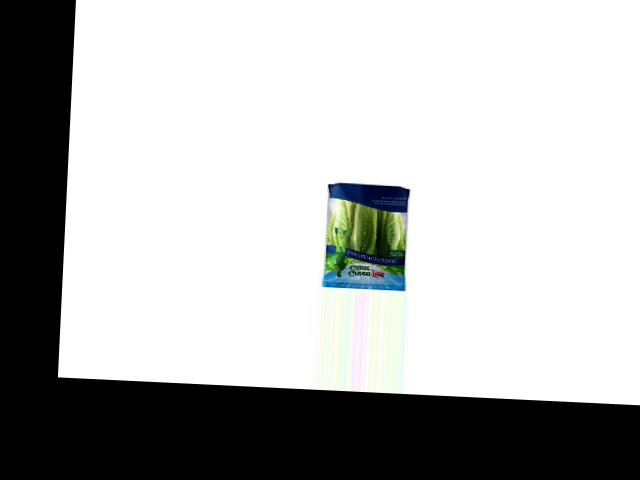lettuce: (320, 178, 411, 286)
